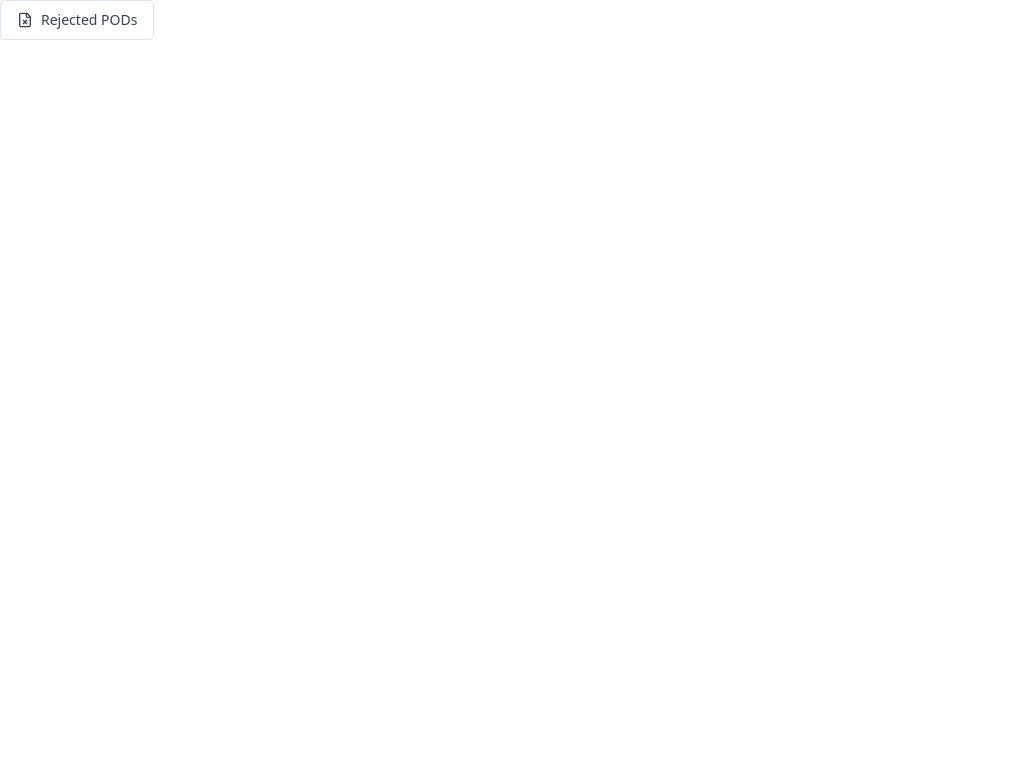
Scenario: rejected POD history › loads only after opening and shows the broker number, reason, reporter, and documents
Click the button "Rejected PODs" at (77, 20), box [0,0,154,40]
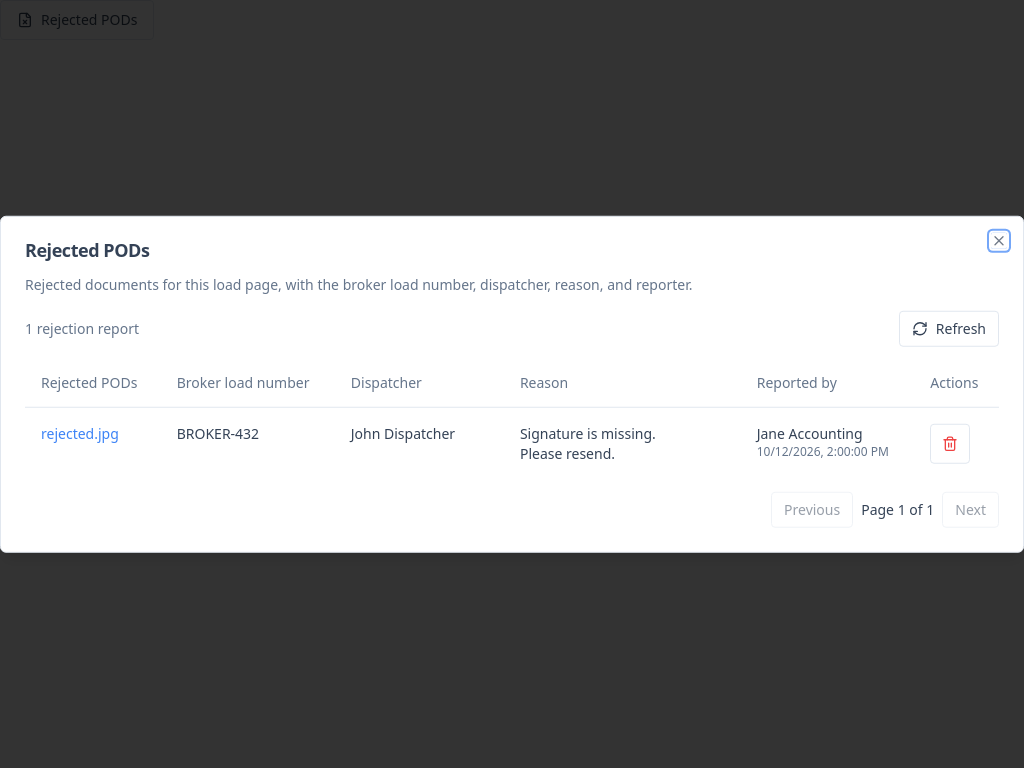
expect the text "BROKER-432" is shown: met, box [161,407,335,479]
expect the text "Signature is missing. Please resend." is shown: met, box [504,407,741,479]
expect the text "Jane Accounting" is shown: met, box [757,423,863,442]
